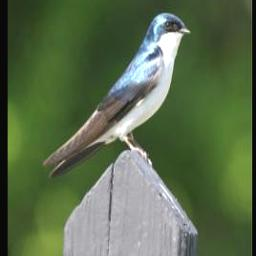Swallow: (42, 12, 192, 180)
